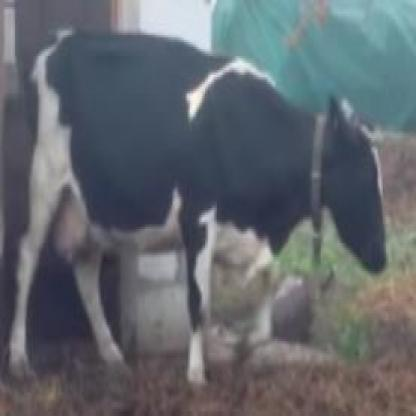cow: (9, 30, 387, 388)
